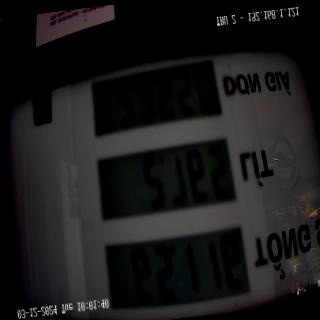screen: (75, 49, 256, 320)
